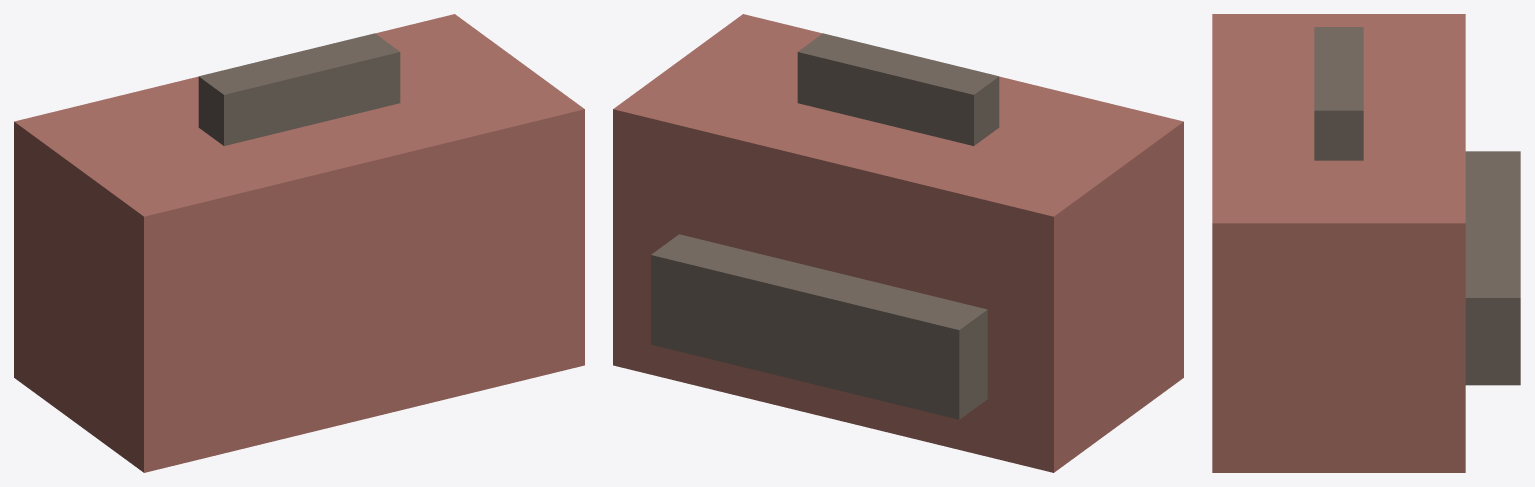
File: toolbox.glb
3 views of the same model, side by side, from view 1: azimuth 30°, elevation 25°; view 2: azimuth 150°, elevation 25°; view 3: azimuth 270°, elevation 25° (orthographic). The views are drawn at different scales.
Parts seen in each view (by area): view 1: body; view 2: body; view 3: body.
Part boxes in pixels (left/top/right/bottom): body: left=14, top=14, right=584, bottom=472; body: left=613, top=14, right=1183, bottom=472; body: left=1212, top=14, right=1520, bottom=472.
Bounding box in the file's own units: 0.45 × 0.3 × 0.28.
